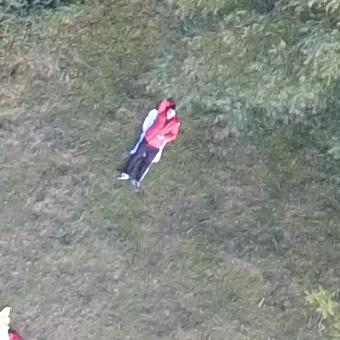human: (119, 95, 183, 189)
